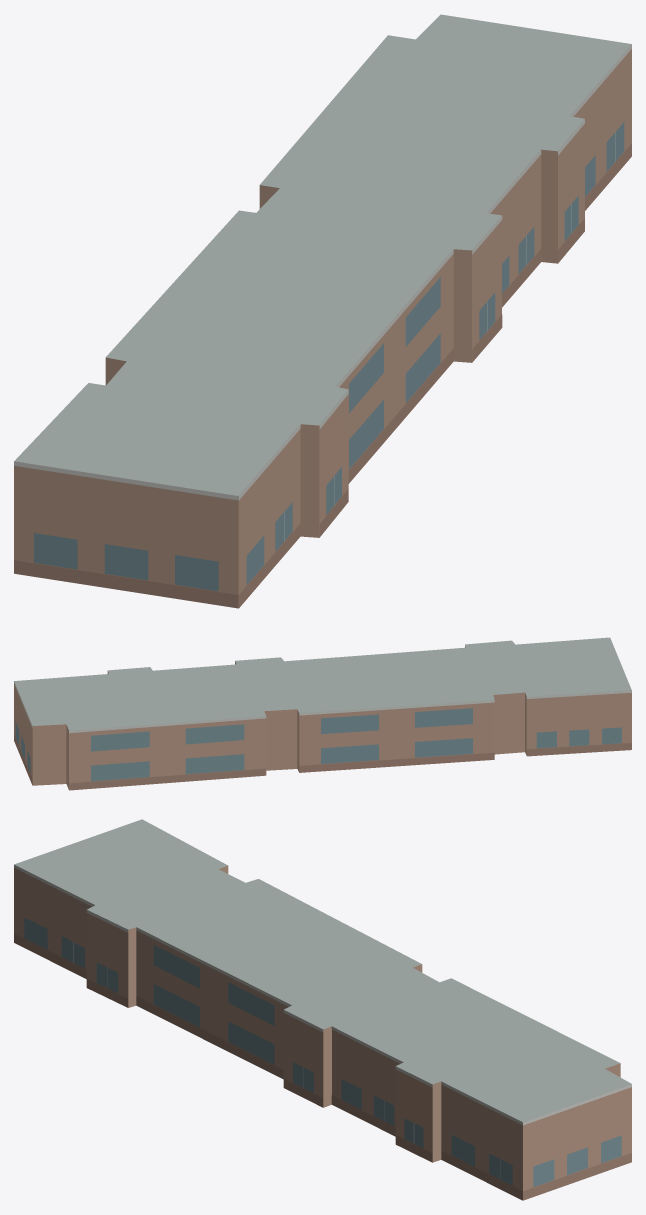
File: survey-upis-32856185.glb
3 views of the same model, one above another, from view 1: azimuth 30°, elevation 25°; view 2: azimuth 150°, elevation 25°; view 3: azimuth 270°, elevation 25° (orthographic). The views are drawn at different scales.
Visible parts, largest first — view 1: survey-upis-32856185.tmp; view 2: survey-upis-32856185.tmp; view 3: survey-upis-32856185.tmp.
Boxes of the visible parts, x1,y1,x2,y2 form: survey-upis-32856185.tmp: (14, 14, 631, 608); survey-upis-32856185.tmp: (14, 637, 631, 790); survey-upis-32856185.tmp: (14, 819, 631, 1200).
Bounding box in the file's own units: 50.61 × 6.1 × 43.6.
